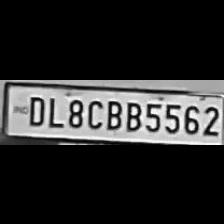2: (200, 102, 220, 136)
5: (143, 98, 161, 132), (163, 100, 181, 132)
6: (181, 100, 199, 134)
8: (65, 94, 85, 128)
B: (122, 97, 142, 130), (104, 96, 122, 130)
C: (84, 95, 104, 129)
D: (23, 93, 44, 126)
L: (45, 93, 63, 127)
